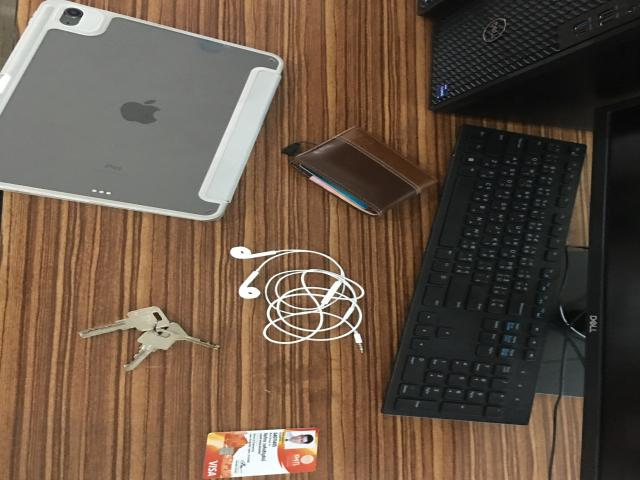Keys: (79, 307, 215, 372)
Wallet: (290, 129, 435, 217)
wire: (239, 253, 366, 348)
